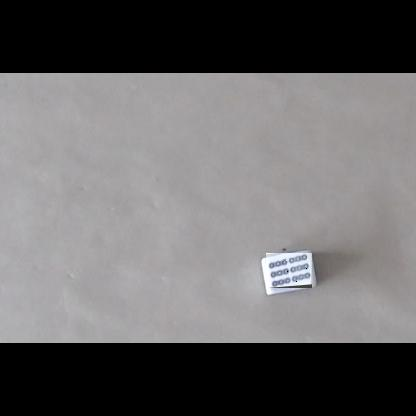6s: (266, 253, 312, 288)
